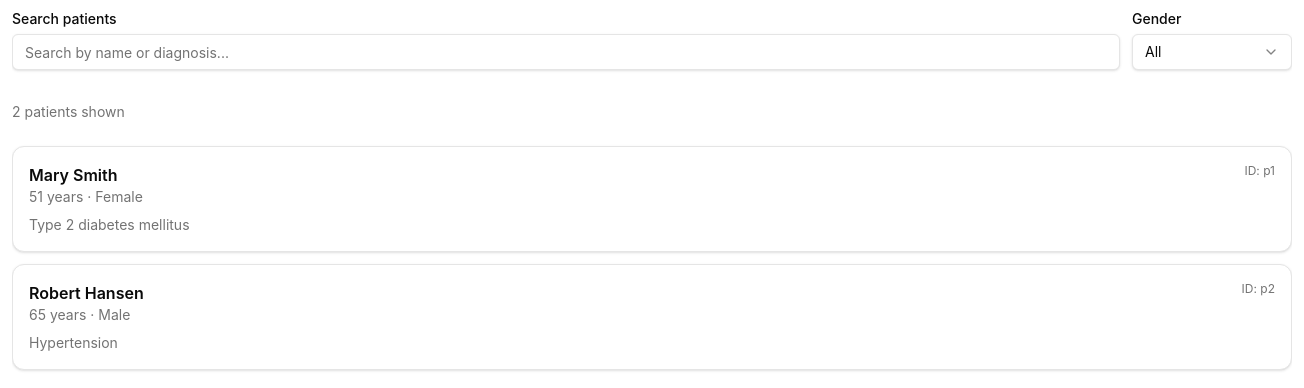
Test: PatientList › shows an empty state when no patients match
Type "zzzz" into the field labelled "Search patients" at {"x": 566, "y": 52}, box 12,34 -> 1120,70
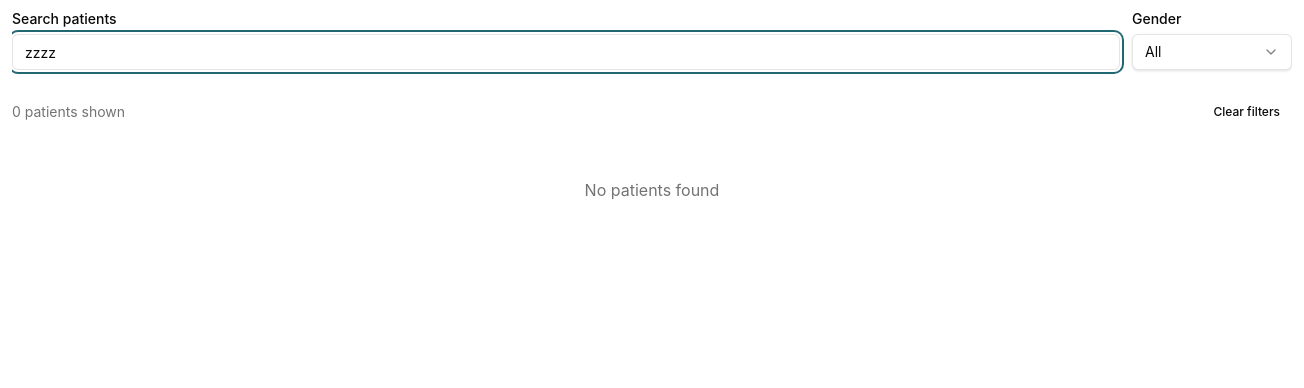
Now the text "No patients found" is shown, box 585,180 -> 719,200
